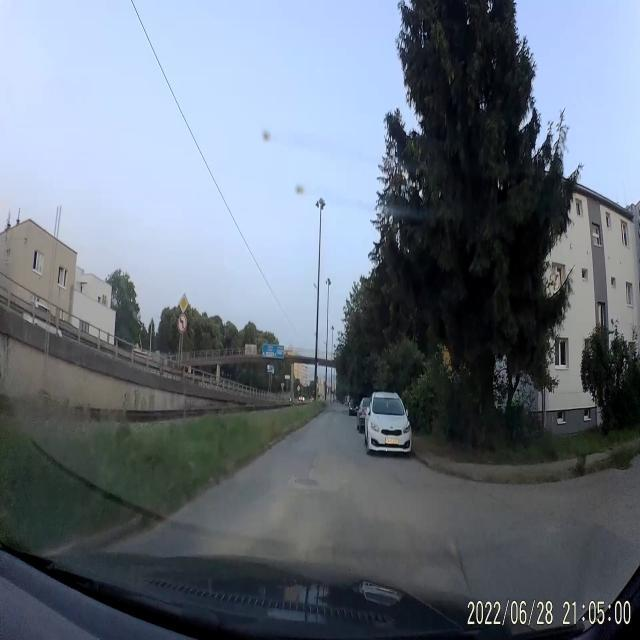Manhole: (294, 474, 320, 488)
Pothole: (438, 541, 474, 595)
